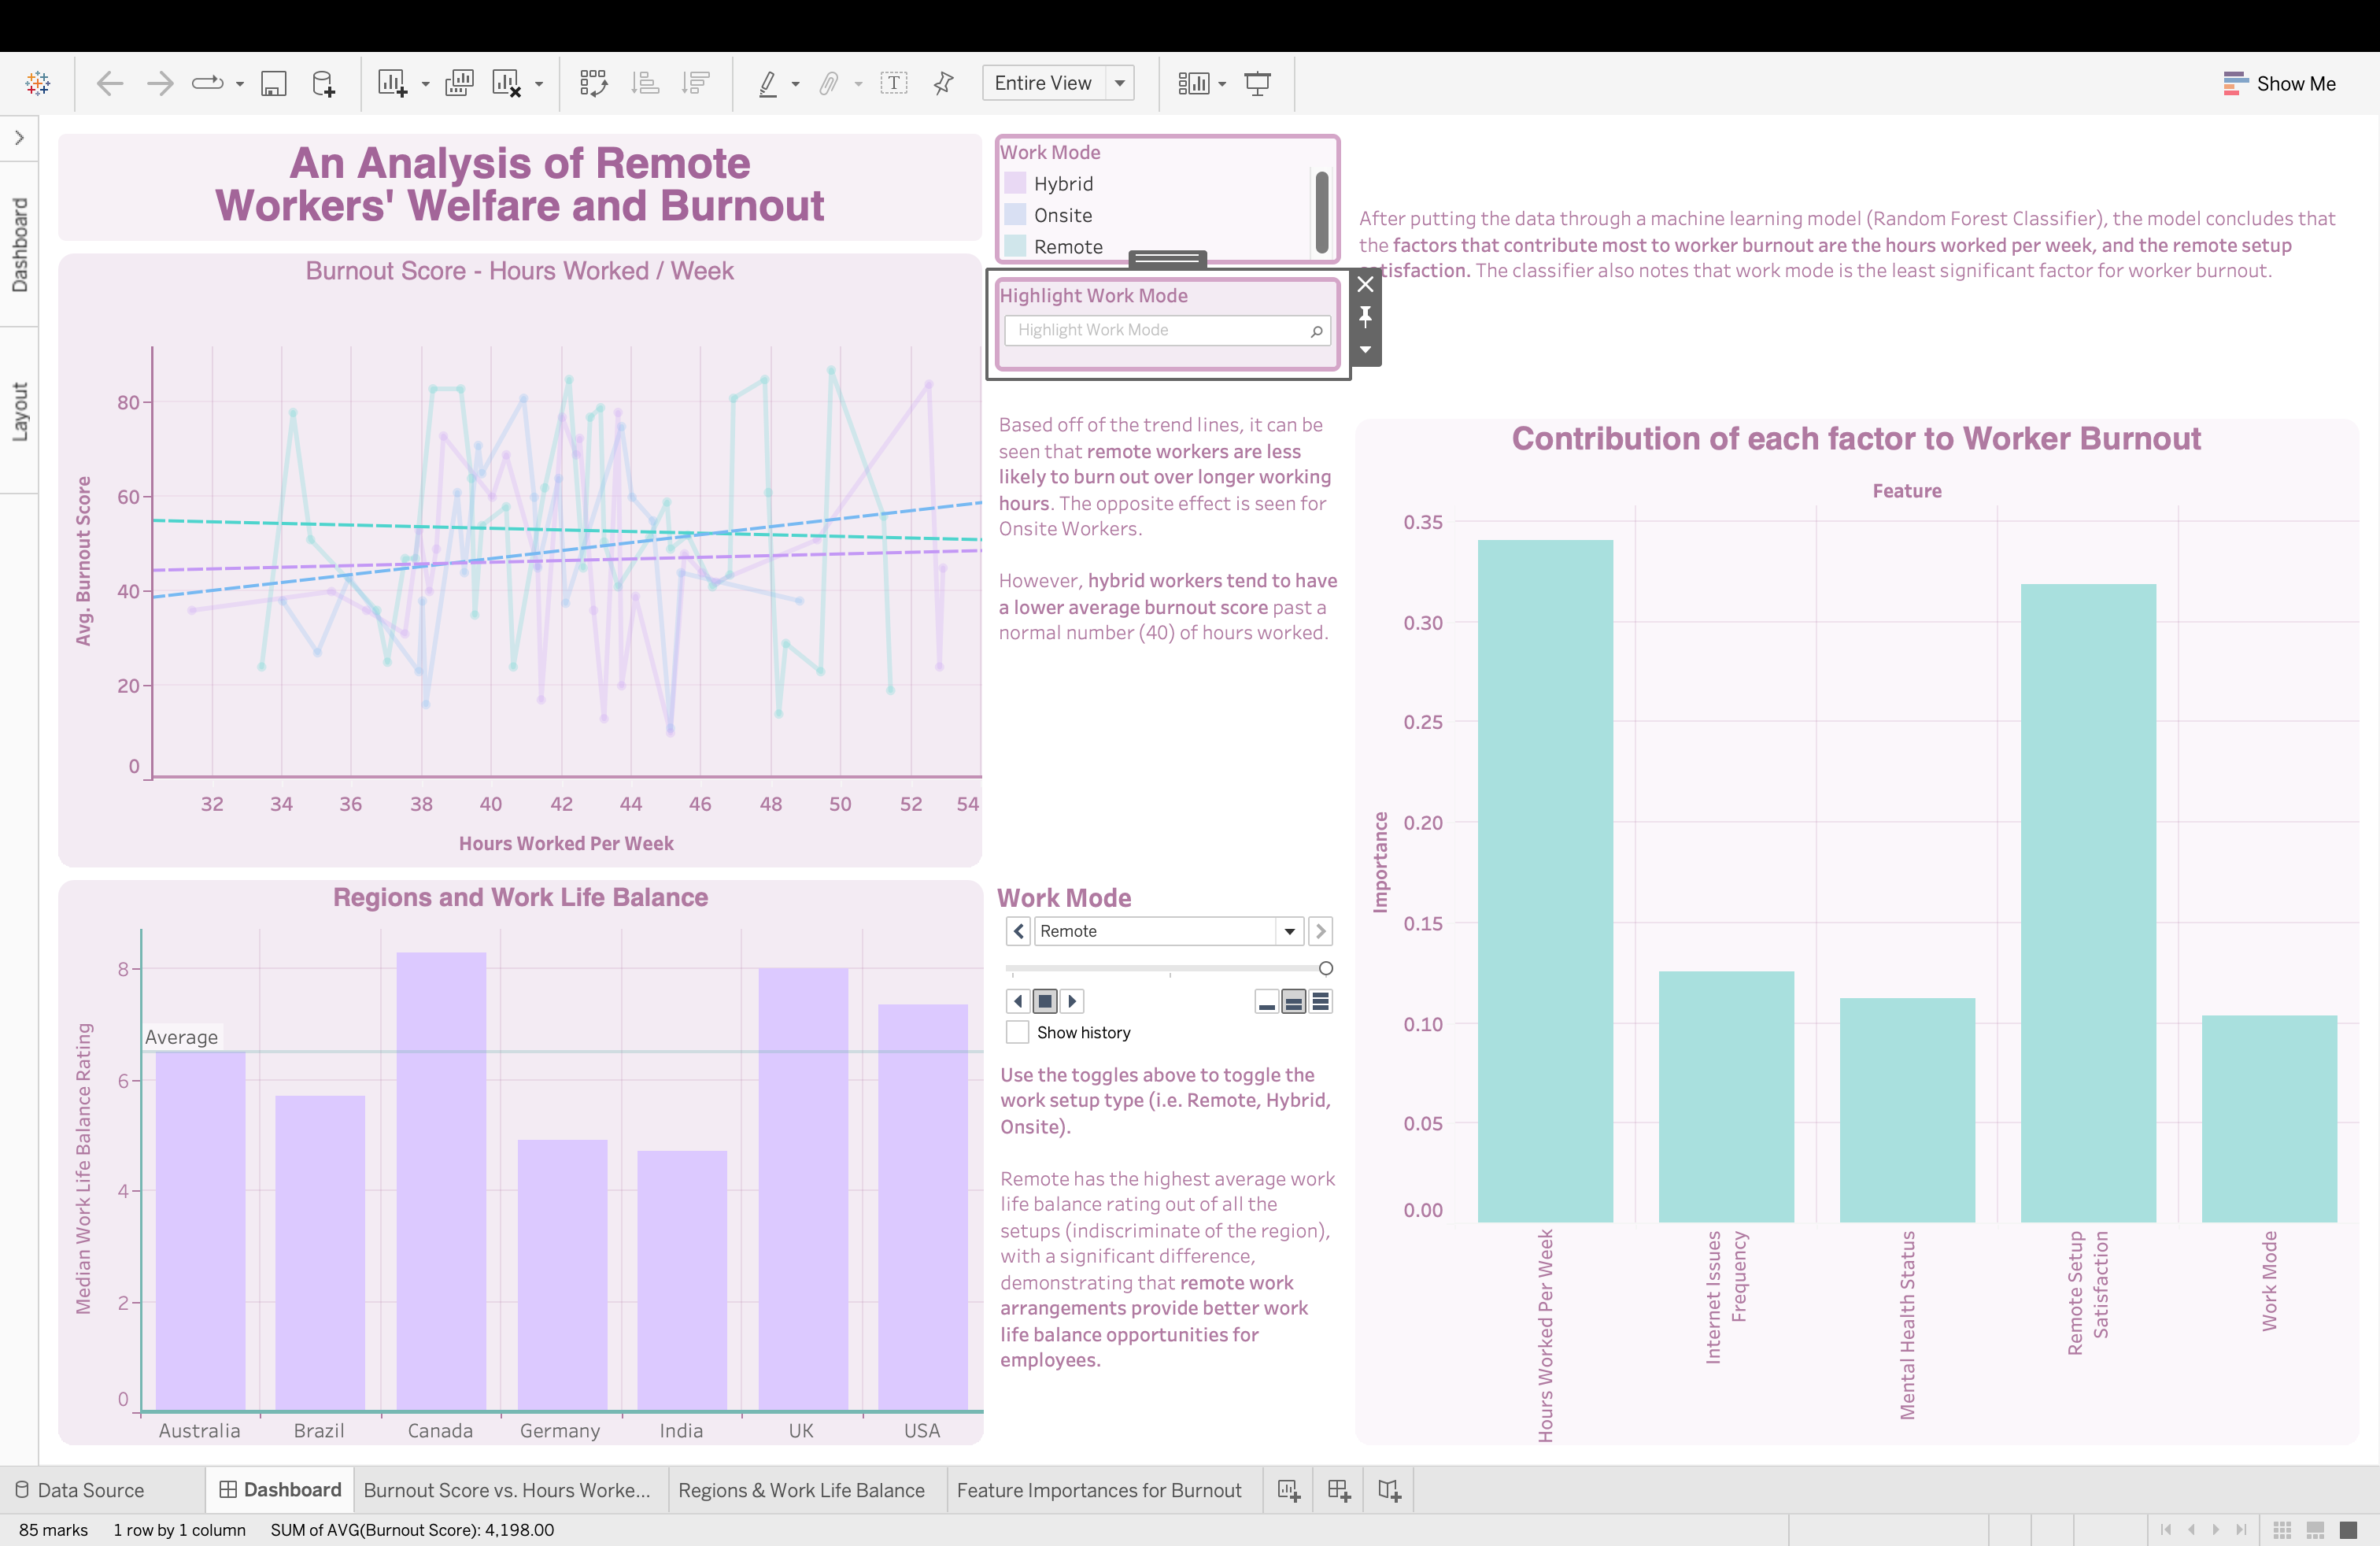

The page's visual inventory and layout, read from the dashboard file:
{"tool":"tableau","page":{"name":"Dashboard","canvas":[1000,1000],"units":"permille","ordinal":0},"visuals":[{"type":"title","box":[6.2,9.3,400,88.7]},{"type":"legend","title":"Burnout Score vs. Hours Worked/wk","param":"[federated.14fqtqb0t0xbcc14yfkgo0z6qybt].[none:Work_Mode:nk]","box":[406.1,9.3,153.5,106.2]},{"type":"text","box":[559.6,9.3,434.3,173.9]},{"type":"worksheet","title":"Burnout Score vs. Hours Worked/wk","mark":"Automatic","rows":["Burnout_Score"],"cols":["Hours_Worked_Per_Week"],"box":[6.2,98,400,464.4]},{"type":"highlighter","title":"Burnout Score vs. Hours Worked/wk","param":"[federated.14fqtqb0t0xbcc14yfkgo0z6qybt].[none:Work_Mode:nk]","box":[406.1,115.5,153.5,79.3]},{"type":"text","box":[406.1,194.8,153.5,267.2]},{"type":"worksheet","title":"Feature Importances for Burnout ","mark":"Automatic","rows":["Importance"],"cols":["Feature"],"box":[559.6,220.5,434.3,770.1]},{"type":"worksheet","title":"Regions & Work Life Balance","mark":"Bar","rows":["Work_Life_Balance_Rating"],"cols":["Country"],"box":[6.2,562.4,400.4,428.2]},{"type":"currpage","title":"Regions & Work Life Balance","box":[406.5,562.4,153.1,134.2]},{"type":"text","box":[406.5,696.6,153.1,247.4]}]}

Visuals, with their boxes on the dashboard's canvas, which has no fixed pixel size, in thousandths of its width and height (x1, y1, x2, y2). These are canvas units, not pixel positions in the 2380x1546 screenshot, which may show the page scaled, cropped or inside an application window:
title: [6,9,406,98]
"Burnout Score vs. Hours Worked/wk" legend: [406,9,560,116]
text: [560,9,994,183]
"Burnout Score vs. Hours Worked/wk" worksheet: [6,98,406,562]
"Burnout Score vs. Hours Worked/wk" highlighter: [406,116,560,195]
text: [406,195,560,462]
"Feature Importances for Burnout " worksheet: [560,220,994,991]
"Regions & Work Life Balance" worksheet (Bar marks): [6,562,407,991]
"Regions & Work Life Balance" currpage: [406,562,560,697]
text: [406,697,560,944]
